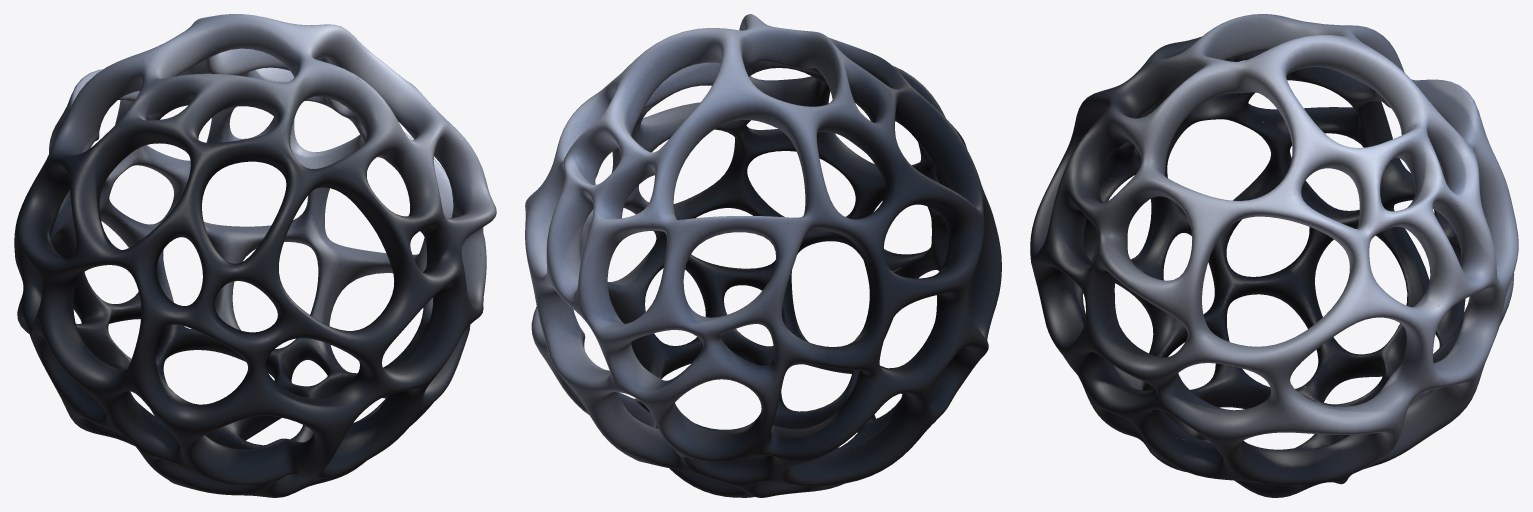
File: abstract-v1.glb
3 renders of one model, left to right at view 1: azimuth 30°, elevation 25°; view 2: azimuth 150°, elevation 25°; view 3: azimuth 270°, elevation 25°, orthographic.
Visible parts, largest first — view 1: VoronoiDyno.Bake_Material_0; view 2: VoronoiDyno.Bake_Material_0; view 3: VoronoiDyno.Bake_Material_0.
Boxes of the visible parts, x1,y1,x2,y2 form: VoronoiDyno.Bake_Material_0: (14,14,496,497); VoronoiDyno.Bake_Material_0: (525,14,1001,497); VoronoiDyno.Bake_Material_0: (1030,14,1518,497).
Size of the model in its own units: 187 by 190 by 185.
Materials: 1 (1 with a texture image).
